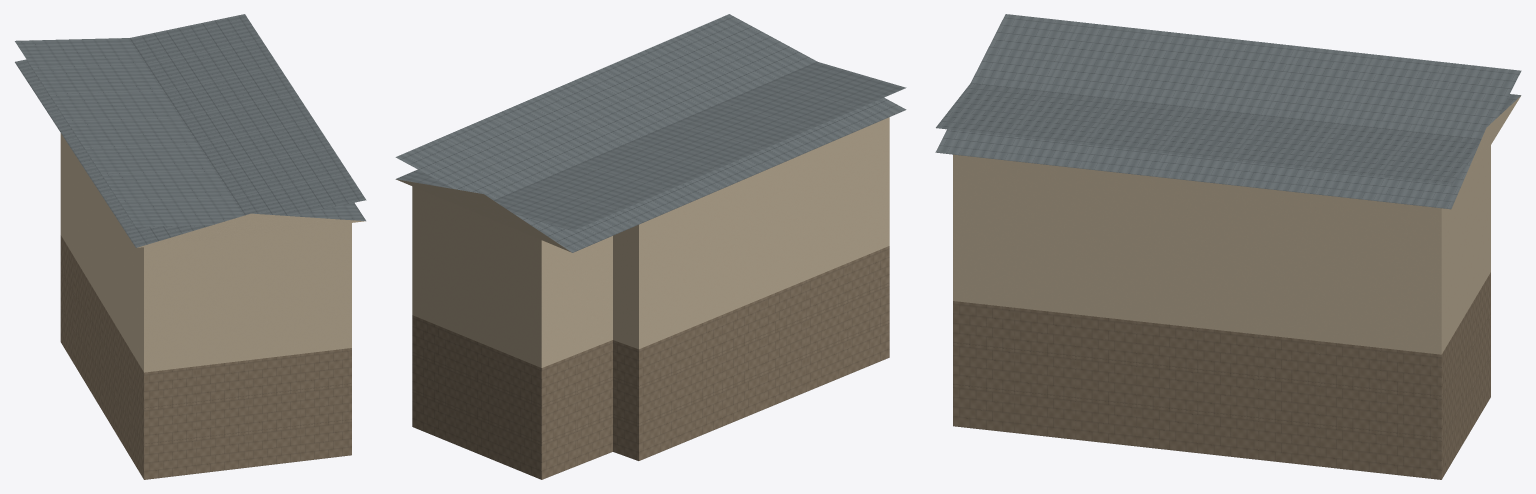
Rendered from bld_c3_19_457.gltf.
3 views of the same model, side by side, from view 1: azimuth 30°, elevation 25°; view 2: azimuth 150°, elevation 25°; view 3: azimuth 270°, elevation 25° (orthographic). The views are drawn at different scales.
Parts seen in each view (by area): view 1: bld_c3_19_457; view 2: bld_c3_19_457; view 3: bld_c3_19_457.
Boxes of the visible parts, x1,y1,x2,y2 form: bld_c3_19_457: [15, 14, 366, 479]; bld_c3_19_457: [395, 14, 906, 479]; bld_c3_19_457: [935, 14, 1521, 479].
Bounding box in the file's own units: 14.91 × 12.3 × 21.63.
Materials: 4 (4 with a texture image).
